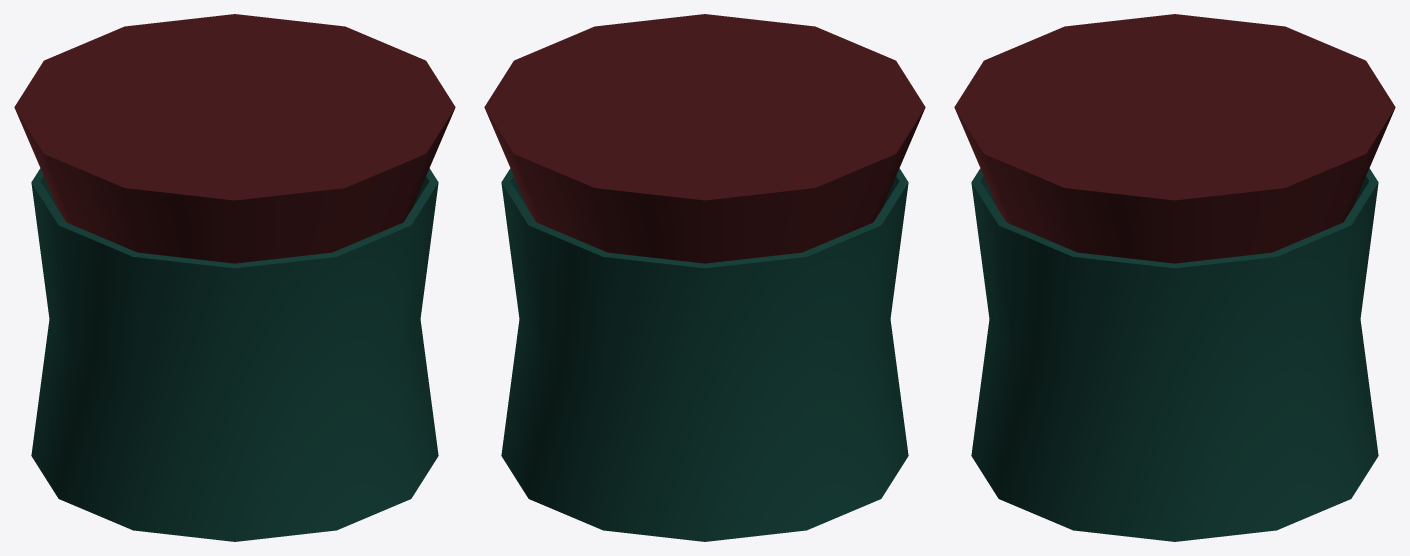
Rendered from flaska4.obj.
3 renders of one model, left to right at view 1: azimuth 30°, elevation 25°; view 2: azimuth 150°, elevation 25°; view 3: azimuth 270°, elevation 25°, orthographic.
Parts seen in each view (by area): view 1: flaska3; view 2: flaska3; view 3: flaska3.
Boxes of the visible parts, x1,y1,x2,y2 form: flaska3: [14, 14, 455, 541]; flaska3: [484, 14, 925, 541]; flaska3: [954, 14, 1395, 541].
Size of the model in its own units: 0.7817 by 0.6814 by 0.7817.
